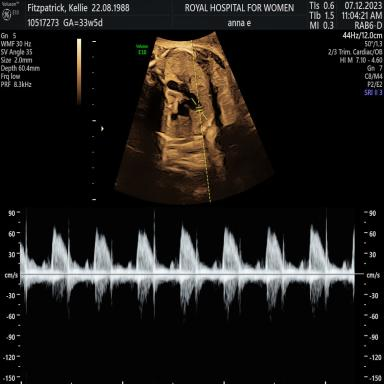Ultrasound-Waves: (27, 208, 353, 383)
